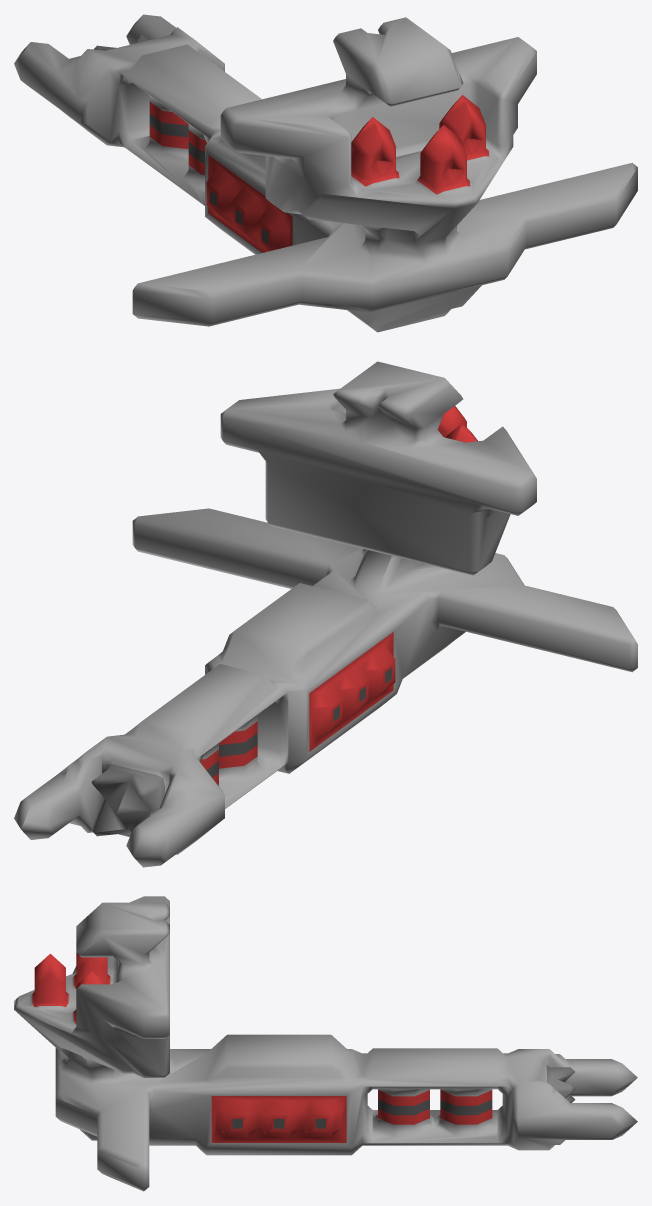
Rendered from fulkreykk-3-falk-class.obj.
The picture shows the model from 3 angles, top to bottom: view 1: azimuth 30°, elevation 25°; view 2: azimuth 150°, elevation 25°; view 3: azimuth 270°, elevation 25°; orthographic projection. The views are drawn at different scales.
Bounding box in the file's own units: 45 × 24 × 60.
1 material, 1 textured.
